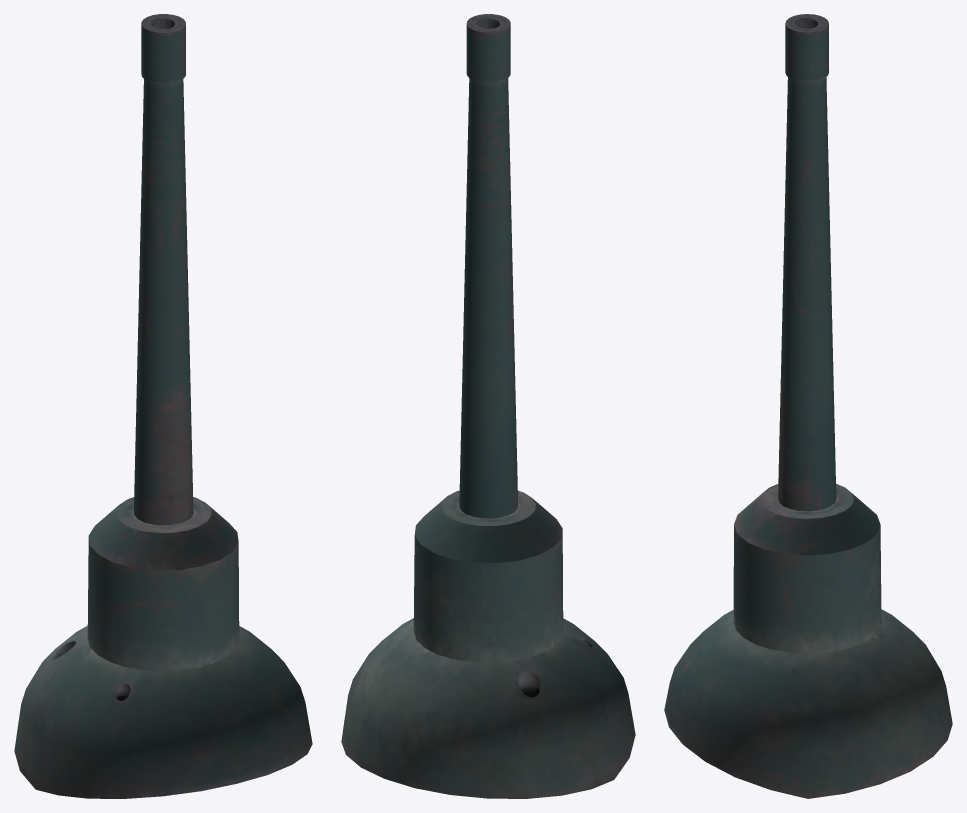
File: Gun_04.glb
3 views of the same model, side by side, from view 1: azimuth 30°, elevation 25°; view 2: azimuth 150°, elevation 25°; view 3: azimuth 270°, elevation 25° (orthographic). The views are drawn at different scales.
Visible parts, largest first — view 1: set_0_group_0; view 2: set_0_group_0; view 3: set_0_group_0.
Boxes of the visible parts, <box> form: set_0_group_0: <box>14,14,312,798</box>; set_0_group_0: <box>341,14,635,798</box>; set_0_group_0: <box>664,14,952,798</box>.
Bounding box in the file's own units: 0.607 × 1.67 × 0.6108.
Materials: 1 (1 with a texture image).
